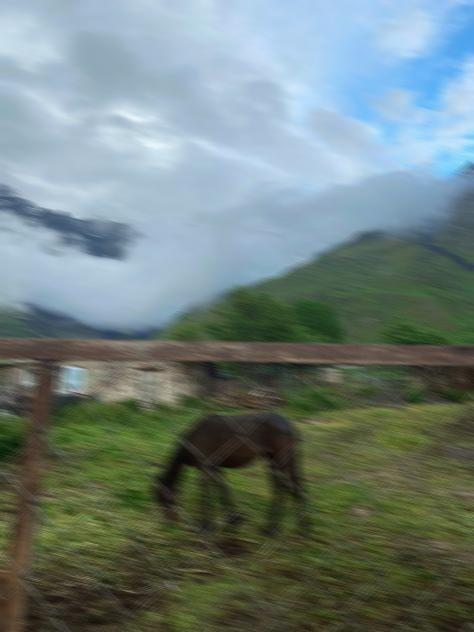horse: (150, 410, 310, 539)
